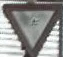Give way: (1, 2, 56, 51)
